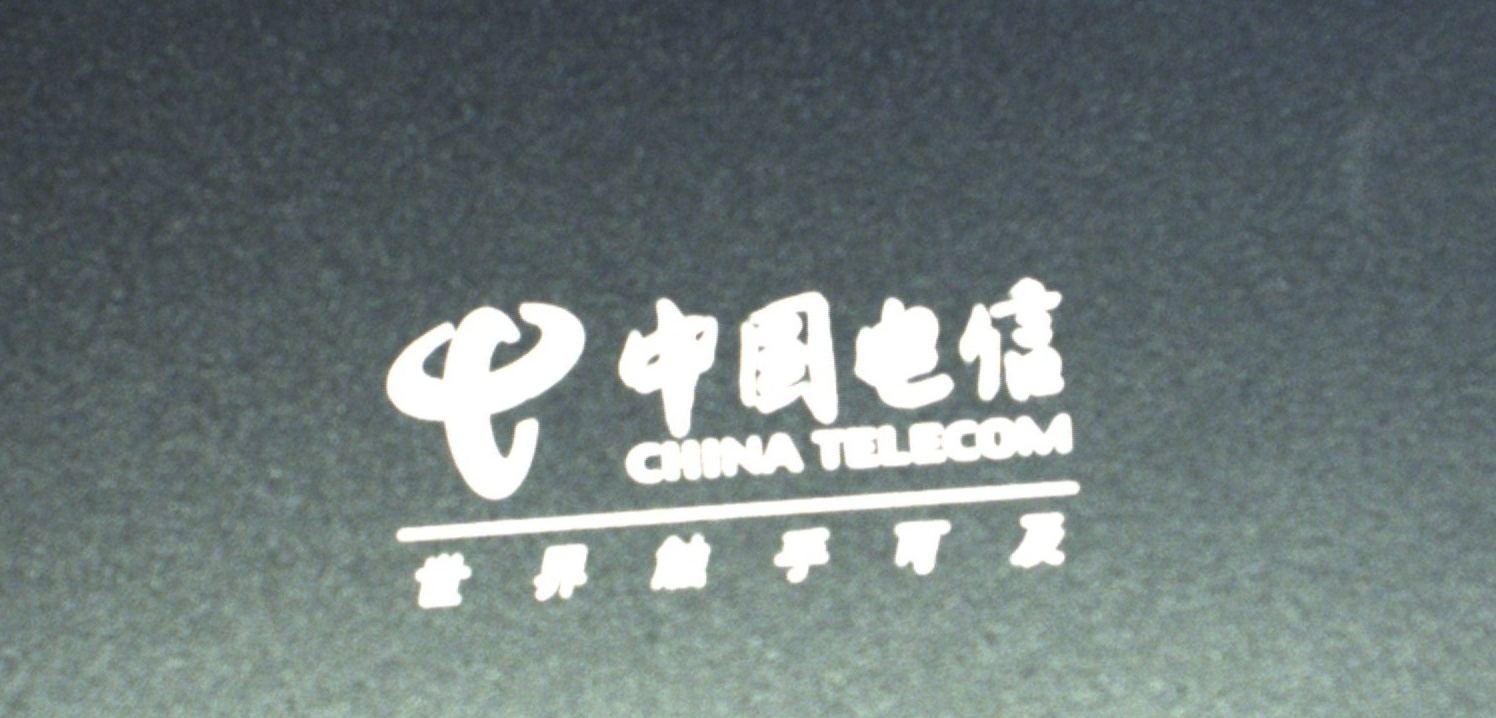AB_ChinaTelecom: (352, 275, 1087, 620)
